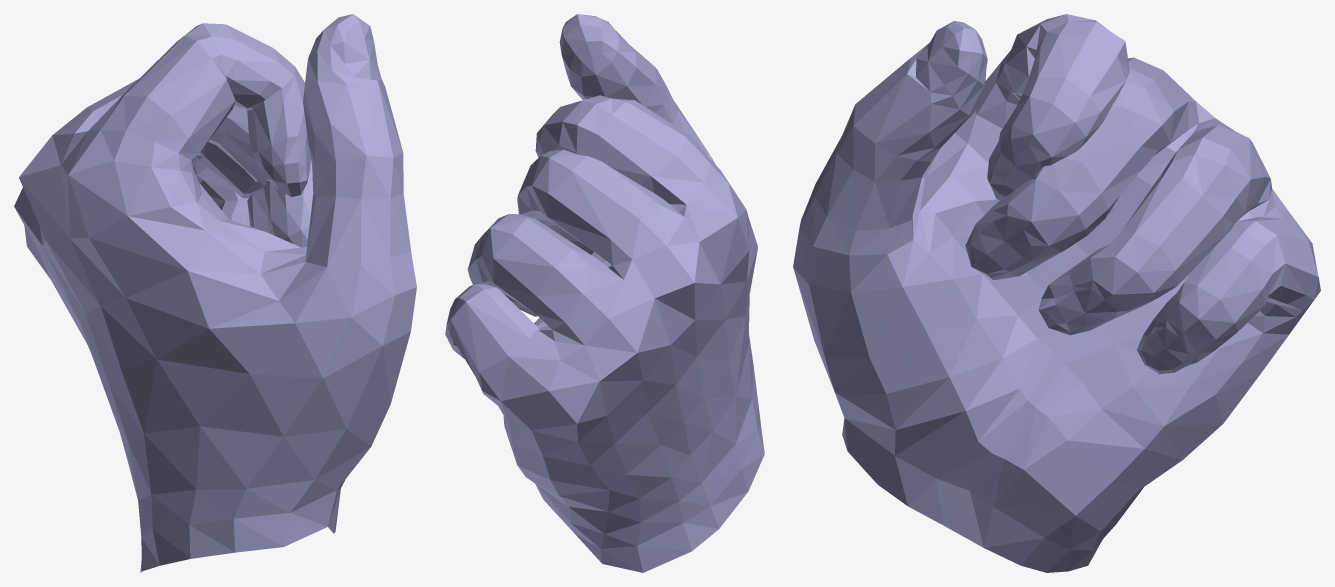
Rendered from frame_0061_source_000061_hand.glb.
3 renders of one model, left to right at view 1: azimuth 30°, elevation 25°; view 2: azimuth 150°, elevation 25°; view 3: azimuth 270°, elevation 25°, orthographic. The views are drawn at different scales.
Parts seen in each view (by area): view 1: world; view 2: world; view 3: world.
Part boxes in pixels (x1,y1,x2,y2): world: (14,14,416,572); world: (445,14,764,572); world: (793,14,1320,572).
Bounding box in the file's own units: 0.0608 × 0.1223 × 0.1005.
